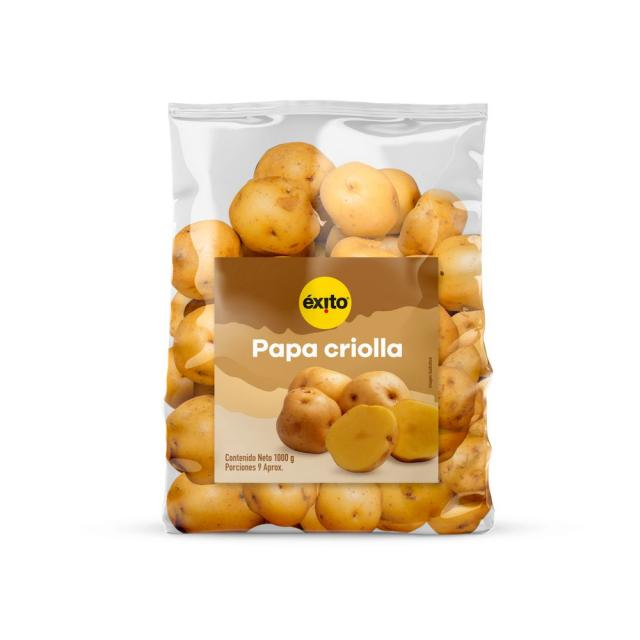papa: (315, 157, 404, 242)
